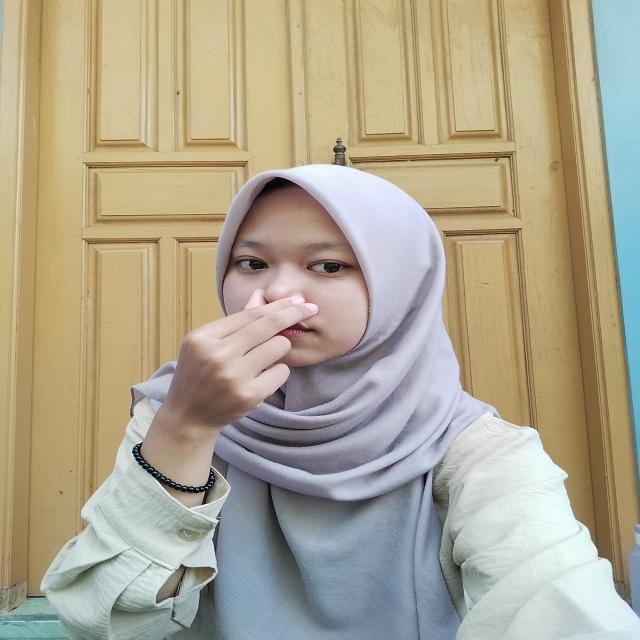bau: (148, 275, 326, 439)
